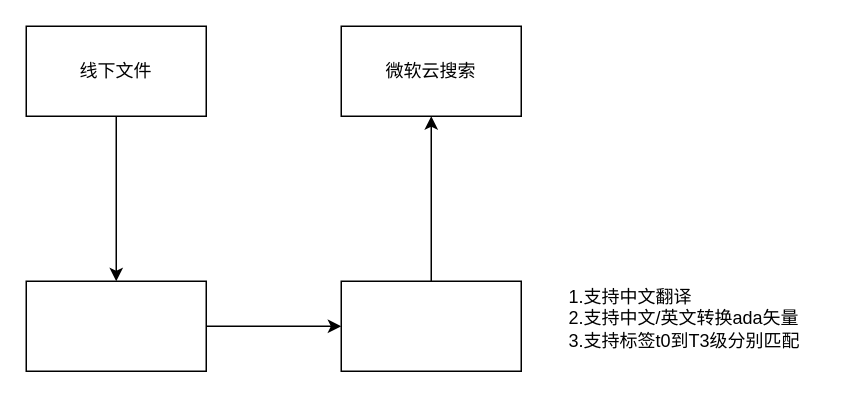
Some shapes in this 848 by 398 pixel diagram are drawn without their labels. Each missing label, with the centre of its shape:
"api服务" goes at (x=430, y=325).
"本地处理逻辑" goes at (x=115, y=325).
